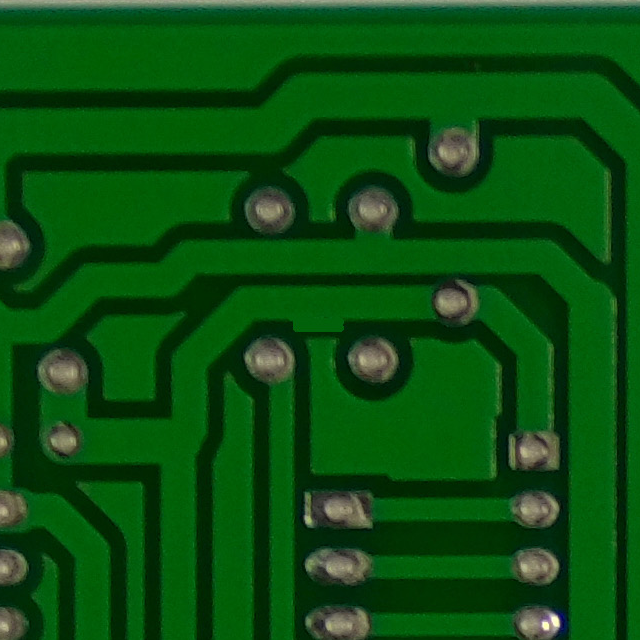spur: (273, 293, 368, 347)
